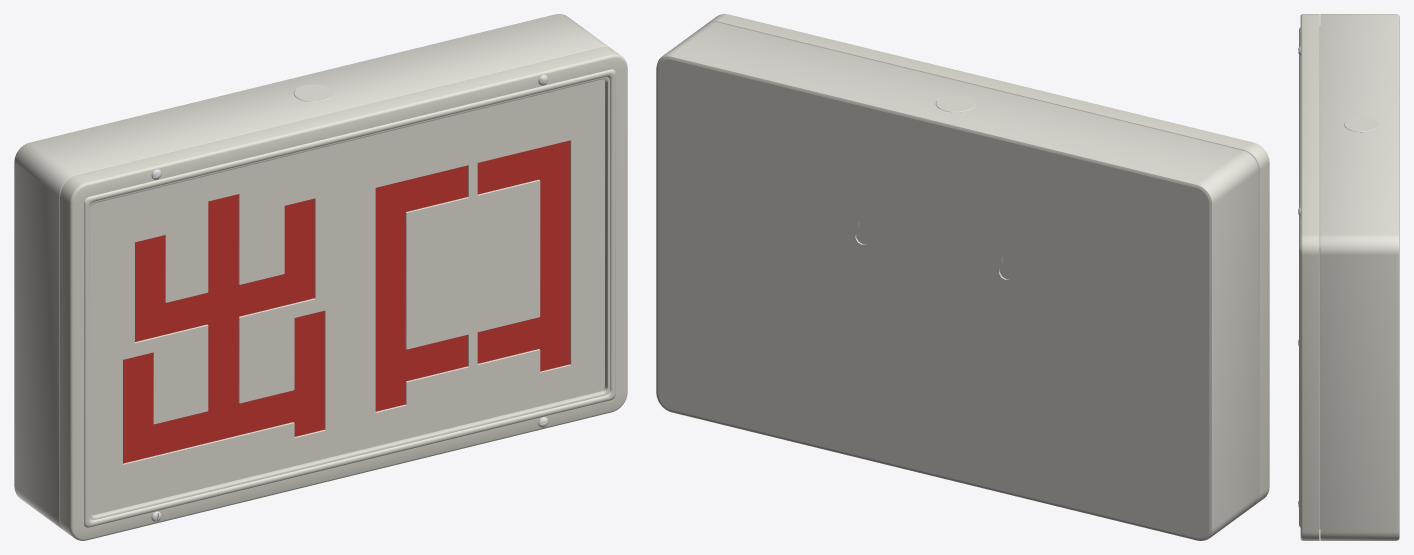
The model's file is Kit_ExitSign.fbx.
The picture shows the model from 3 angles, left to right: view 1: azimuth 30°, elevation 25°; view 2: azimuth 150°, elevation 25°; view 3: azimuth 270°, elevation 25°; orthographic projection. The views are drawn at different scales.
Visible parts, largest first — view 1: Kit_ExitSign_LOD0; view 2: Kit_ExitSign_LOD0; view 3: Kit_ExitSign_LOD0.
Part boxes in pixels (<box>): Kit_ExitSign_LOD0: <box>14,14,627,540</box>; Kit_ExitSign_LOD0: <box>656,14,1269,540</box>; Kit_ExitSign_LOD0: <box>1298,14,1399,540</box>.
Size of what is drawn, in the model's own units: 0.346 by 0.2124 by 0.0639.
